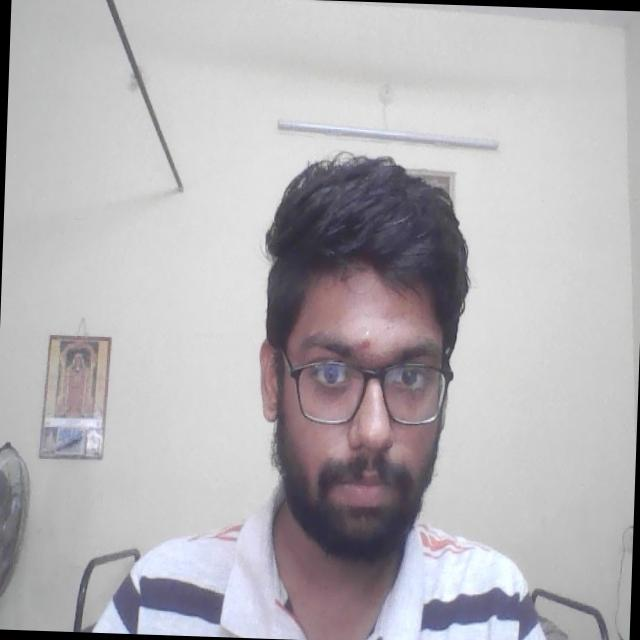Focused: (262, 272, 458, 530)
